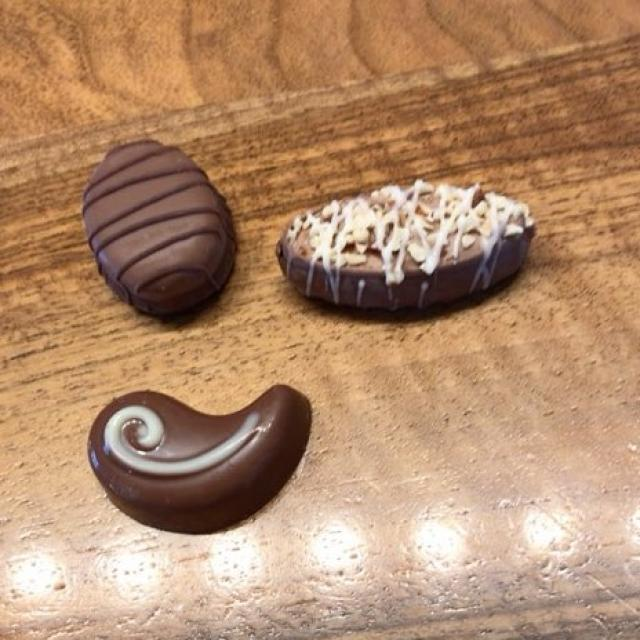nuts: (90, 130, 535, 528)
